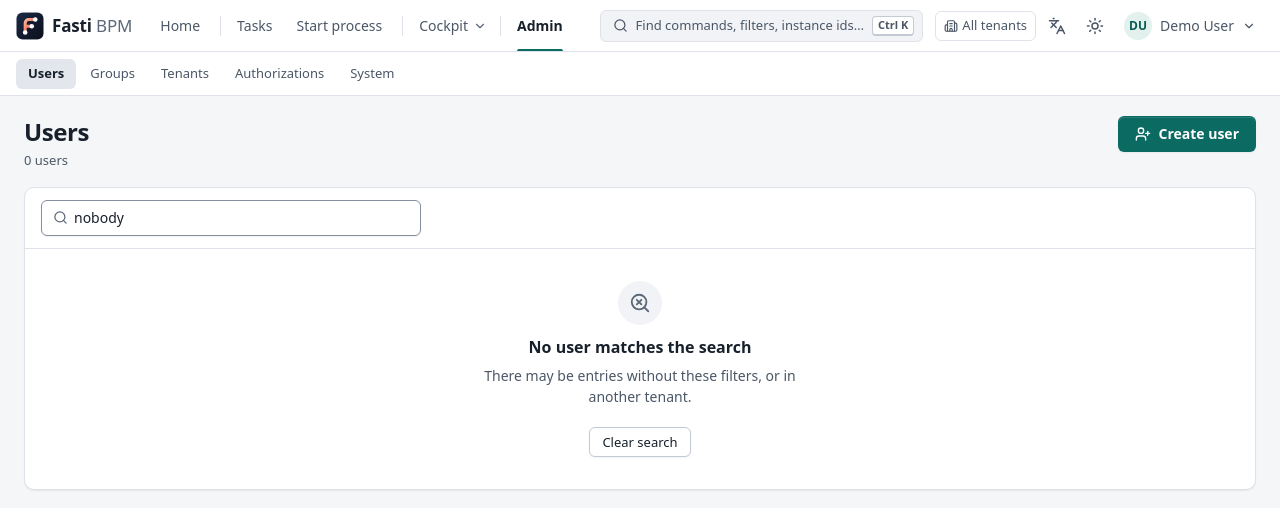
Scenario: users › tells a search without result from an empty list and clears the search
Check: the text "No user matches the search" is shown, box [529,337,752,358]
Click the button "Clear search".
click(640, 442)  # box [589,428,691,458]
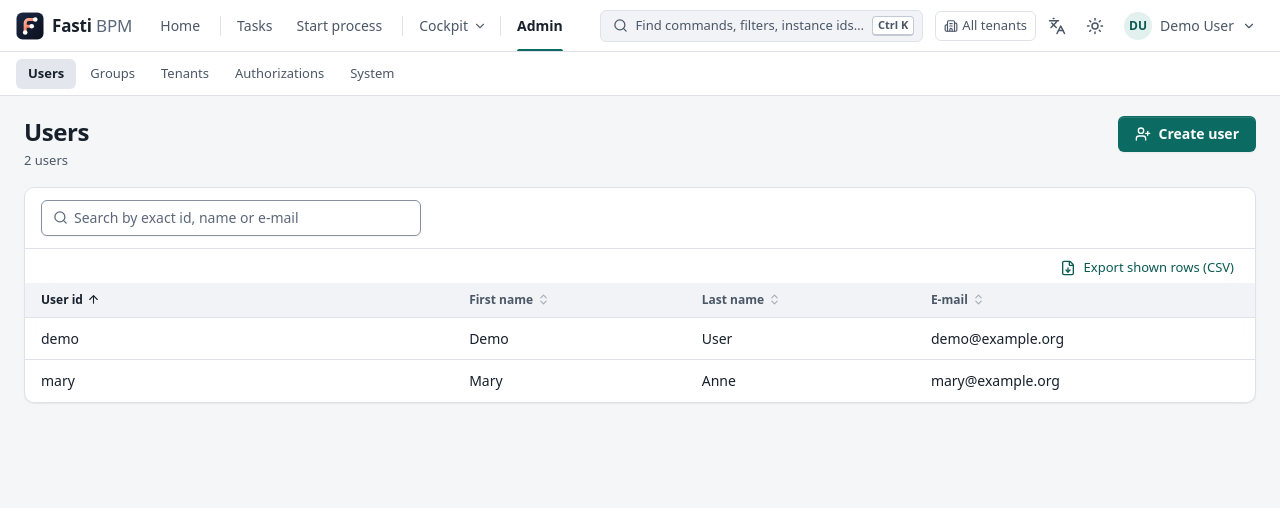
Check: the link "mary" is shown, box [41,371,75,390]
Check: the search field labelled "Search by exact id, name or e-mail" is empty, box [41,200,421,236]
